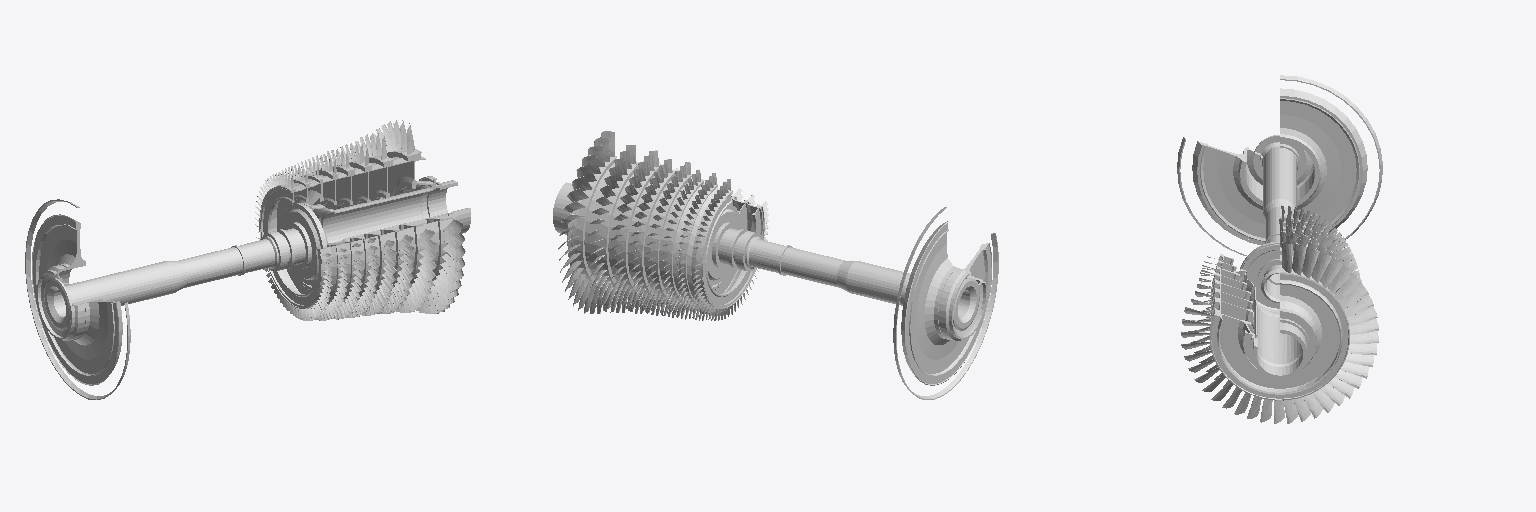
The model's file is turbine_spool_1.obj.
3 renders of one model, left to right at view 1: azimuth 30°, elevation 25°; view 2: azimuth 150°, elevation 25°; view 3: azimuth 270°, elevation 25°, orthographic.
Visible parts, largest first — view 1: spool_2; view 2: spool_2; view 3: spool_2.
Boxes of the visible parts, x1=… form: spool_2: x1=25, y1=120, x2=470, y2=399; spool_2: x1=553, y1=131, x2=998, y2=399; spool_2: x1=1177, y1=75, x2=1382, y2=423.
Size of the model in its own units: 0.0021 by 0.0009 by 0.0009.